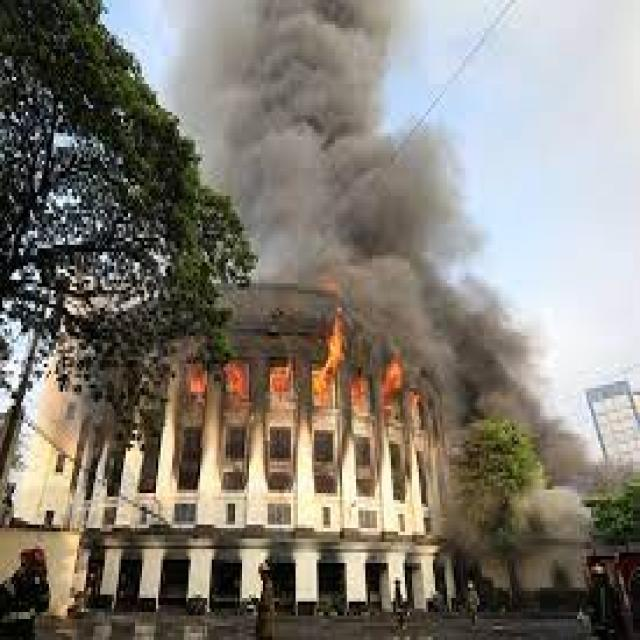Fire: (188, 323, 466, 449)
Smoke: (188, 4, 531, 310)
